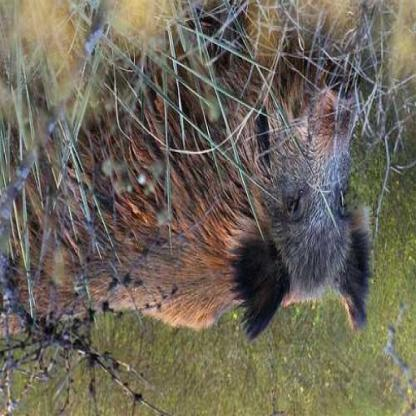boar: (30, 46, 415, 342)
